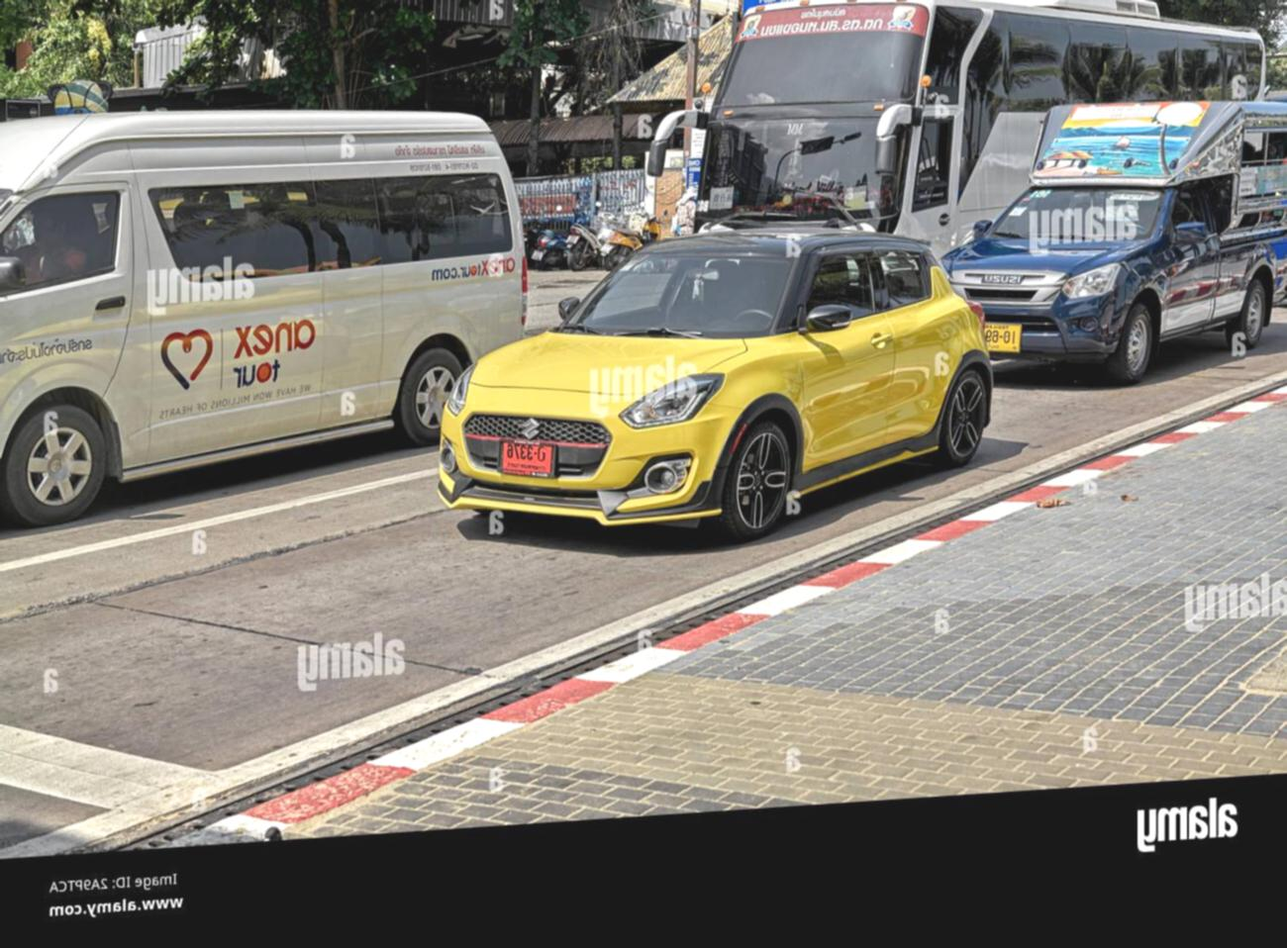License_Plate: (496, 431, 555, 486)
